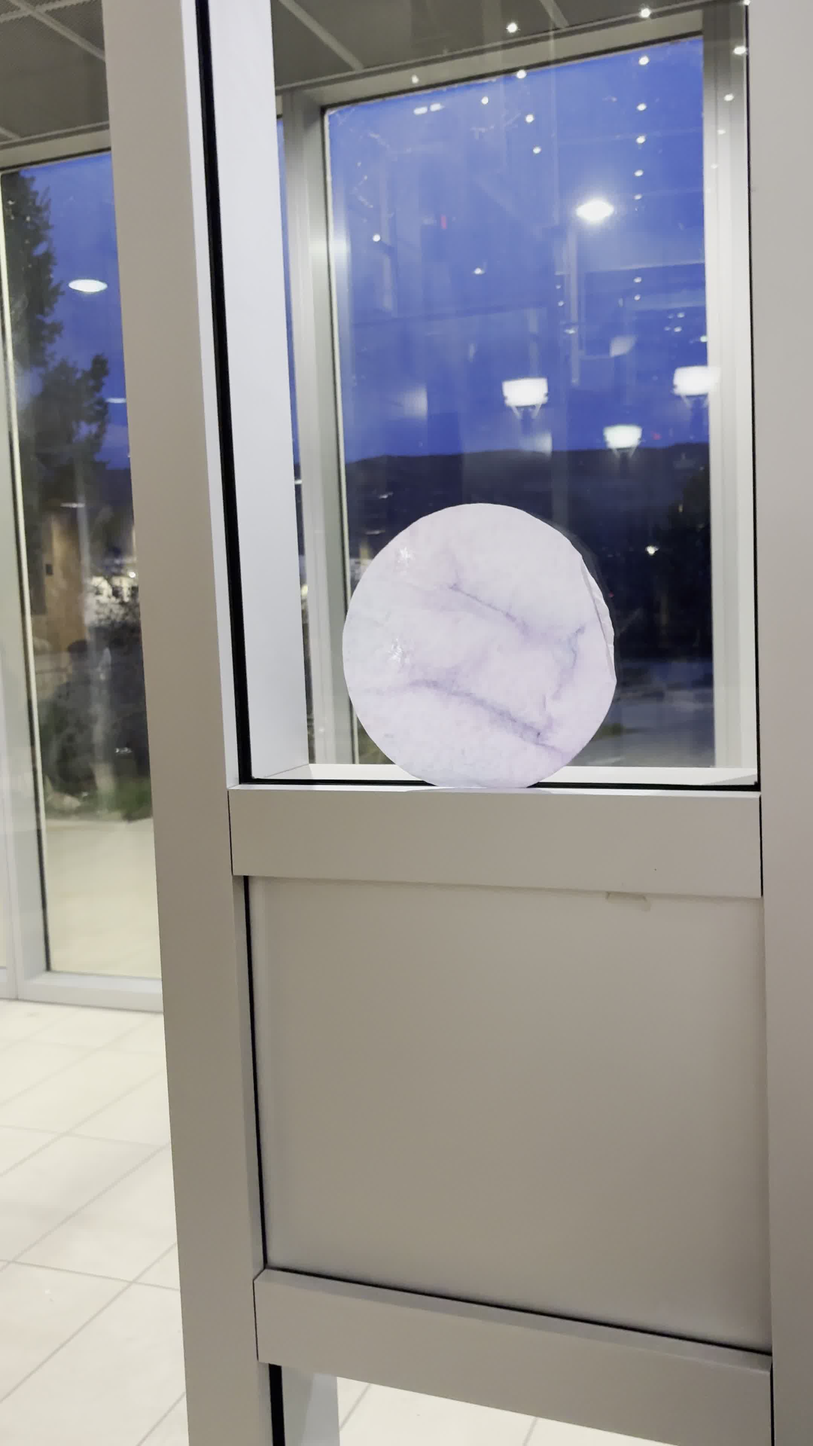Target: (340, 503, 617, 787)
